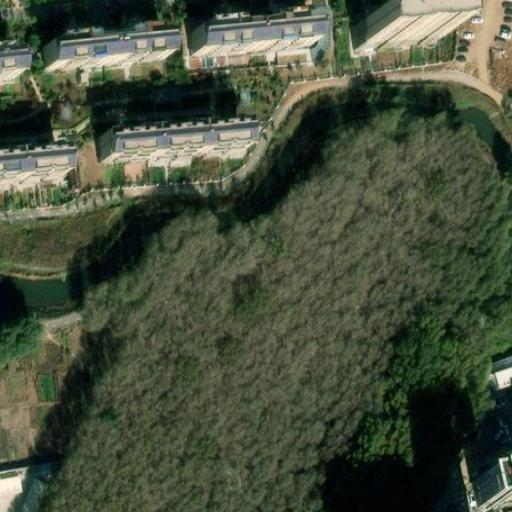building: (96, 124, 242, 170), (183, 15, 303, 62), (34, 35, 153, 75), (355, 8, 444, 53), (465, 467, 512, 512), (20, 474, 49, 512), (0, 45, 24, 78), (0, 470, 22, 491)
